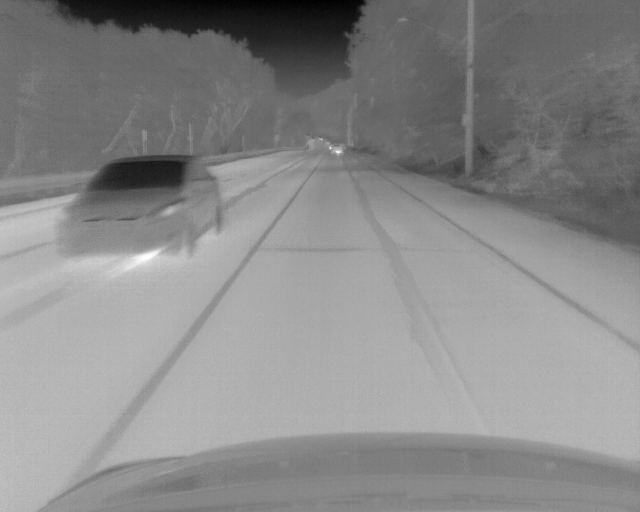car: (54, 154, 225, 261), (327, 142, 344, 157)
